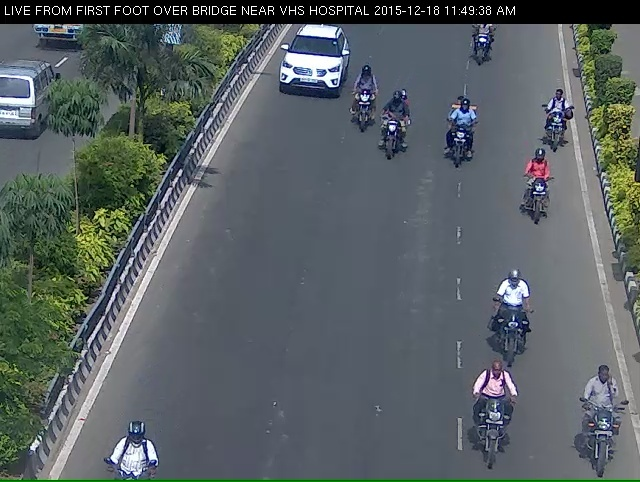Car: (274, 26, 339, 118)
Person: (466, 390, 518, 476), (580, 389, 628, 476), (491, 293, 534, 389), (439, 109, 477, 188), (520, 169, 554, 238), (538, 97, 575, 159), (377, 102, 403, 180), (346, 72, 370, 140), (470, 26, 496, 79)
